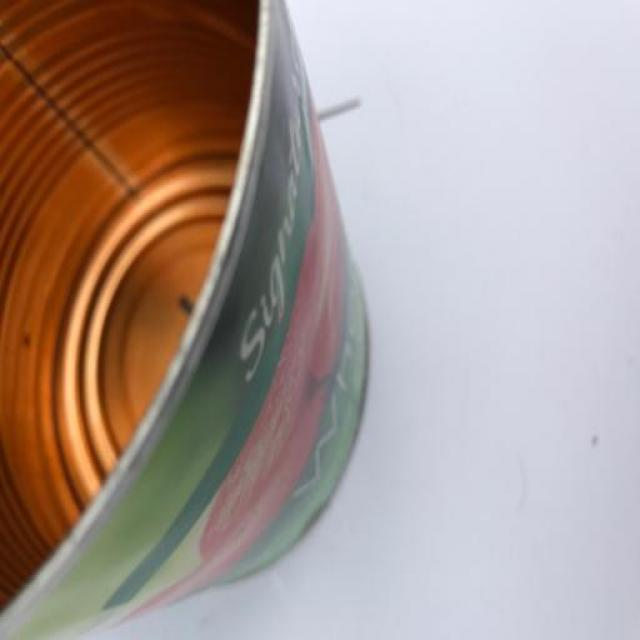metel: (1, 1, 396, 640)
